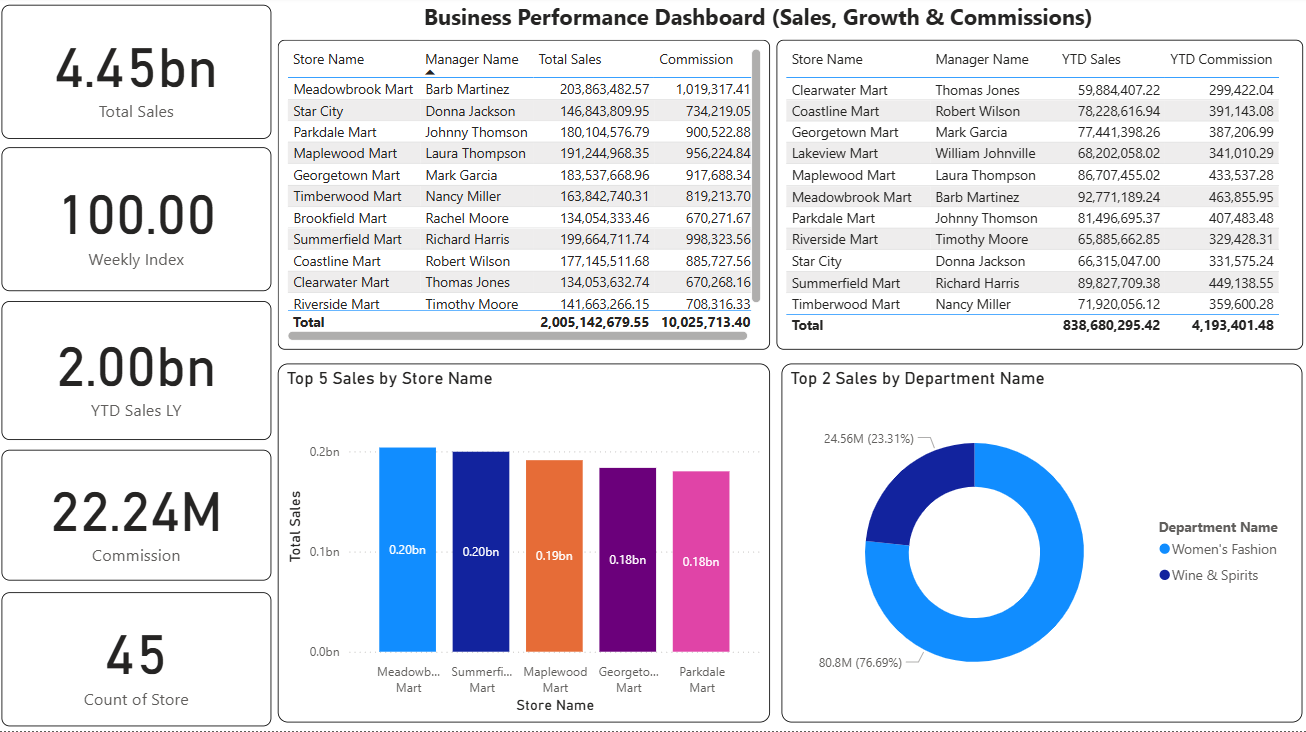

What the dashboard file says about the page in this screenshot:
{"tool":"powerbi","page":{"name":"Page 1","canvas":[1280,720],"ordinal":0},"visuals":[{"type":"card","fields":{"Values":["SalesFact.Total Sales"]},"box":[2.4,8.6,264.1,130.8],"z":0},{"type":"card","fields":{"Values":["SalesFact.Weekly Index"]},"box":[2.4,148,264.1,140.6],"z":1},{"type":"card","fields":{"Values":["SalesFact.YTD Sales"]},"box":[2.4,298.4,264.1,135.7],"z":2},{"type":"card","fields":{"Values":["SalesFact.YTD Commission"]},"box":[2.4,443.9,264.1,128.4],"z":3},{"type":"card","fields":{"Values":["SalesFact.YTD Index"]},"box":[2.4,583.3,264.1,130.8],"z":4},{"type":"columnChart","title":"Top 5 Sales by Store Name","fields":{"Category":["stores data-set.Store Name"],"Y":["SalesFact.Total Sales"],"Series":["stores data-set.Store Name"]},"box":[272.7,359.5,481.8,351],"z":5},{"type":"donutChart","title":"Top 2 Sales by Department Name","fields":{"Category":["Department.Department Name"],"Y":["SalesFact.Total Sales"]},"box":[765.5,359.5,509.9,351],"z":6},{"type":"tableEx","fields":{"Values":["stores data-set.Store Name","stores data-set.Manager Name","SalesFact.Total Sales","SalesFact.Commission"]},"box":[272.7,42.8,481.8,303.3],"z":7},{"type":"tableEx","fields":{"Values":["stores data-set.Store Name","stores data-set.Manager Name","SalesFact.YTD Sales","SalesFact.YTD Commission"]},"box":[760.6,42.8,514.8,303.3],"z":8},{"type":"textbox","box":[410.9,0,665.2,42.8],"z":9}]}

Visuals, with their boxes in screenshot pixels (x1, y1, x2, y2), scaled from the page's 1280x720 canvas onto the 1306x732 screenshot:
card - SalesFact.Total Sales: {"x1": 2, "y1": 9, "x2": 272, "y2": 142}
card - SalesFact.Weekly Index: {"x1": 2, "y1": 150, "x2": 272, "y2": 293}
card - SalesFact.YTD Sales: {"x1": 2, "y1": 303, "x2": 272, "y2": 441}
card - SalesFact.YTD Commission: {"x1": 2, "y1": 451, "x2": 272, "y2": 582}
card - SalesFact.YTD Index: {"x1": 2, "y1": 593, "x2": 272, "y2": 726}
"Top 5 Sales by Store Name" columnChart: {"x1": 278, "y1": 365, "x2": 770, "y2": 722}
"Top 2 Sales by Department Name" donutChart: {"x1": 781, "y1": 365, "x2": 1301, "y2": 722}
tableEx - stores data-set.Store Name x stores data-set.Manager Name: {"x1": 278, "y1": 44, "x2": 770, "y2": 352}
tableEx - stores data-set.Store Name x stores data-set.Manager Name: {"x1": 776, "y1": 44, "x2": 1301, "y2": 352}
textbox: {"x1": 419, "y1": 0, "x2": 1098, "y2": 44}
